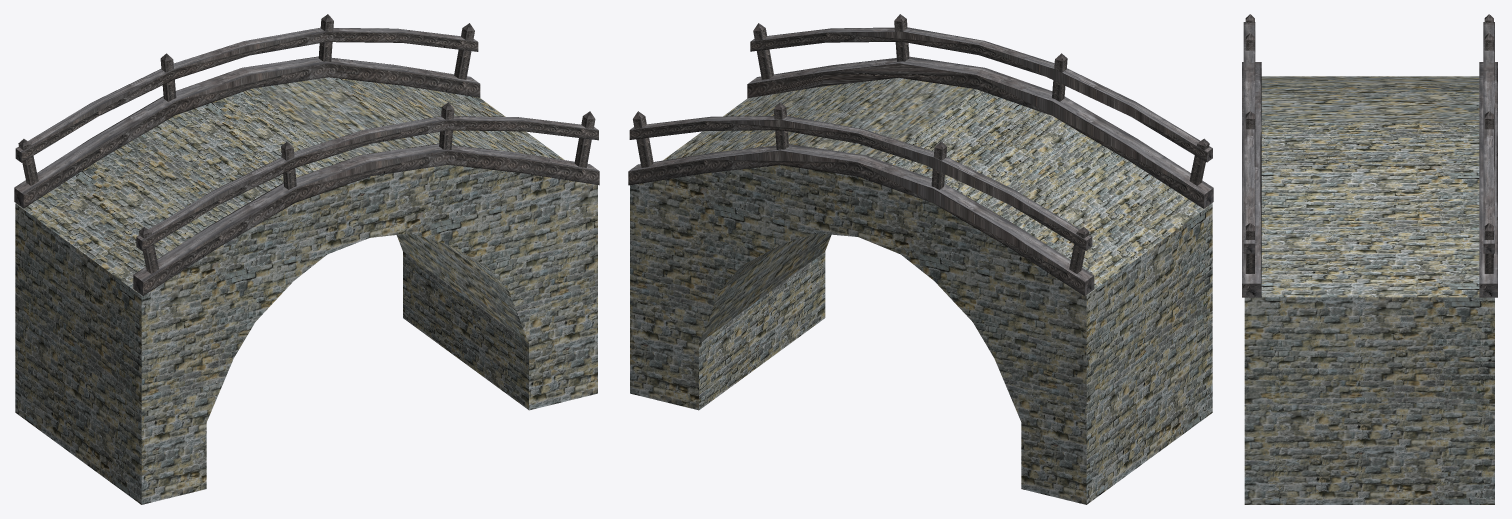
File: v3_bridge_LOD.dae
3 renders of one model, left to right at view 1: azimuth 30°, elevation 25°; view 2: azimuth 150°, elevation 25°; view 3: azimuth 270°, elevation 25°, orthographic.
Parts seen in each view (by area): view 1: bricks_old08, WoodPlanks_ornaments; view 2: bricks_old08, WoodPlanks_ornaments; view 3: bricks_old08, WoodPlanks_ornaments.
Boxes of the visible parts, x1=… form: bricks_old08: x1=15, y1=77, x2=597, y2=504; WoodPlanks_ornaments: x1=14, y1=14, x2=599, y2=295; bricks_old08: x1=630, y1=78, x2=1212, y2=504; WoodPlanks_ornaments: x1=628, y1=14, x2=1213, y2=295; bricks_old08: x1=1244, y1=76, x2=1494, y2=504; WoodPlanks_ornaments: x1=1242, y1=14, x2=1497, y2=297.
Size of the model in its own units: 5.86 by 3.98 by 2.86.
